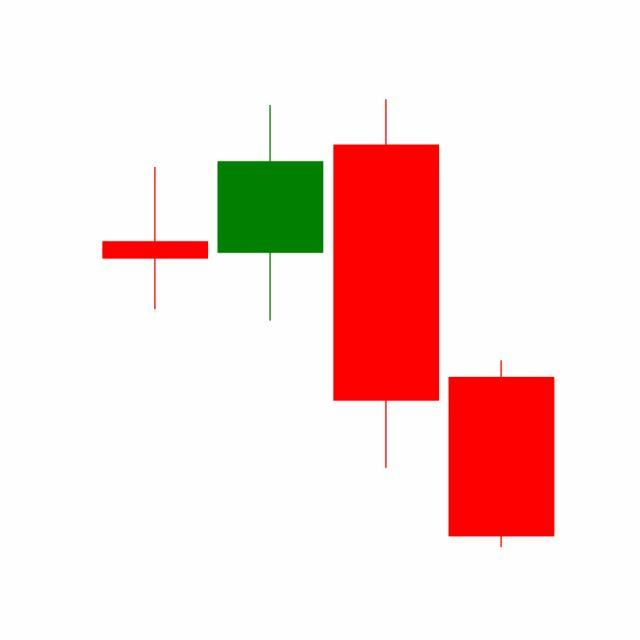Three Outside Up-Down: (211, 99, 555, 549)
